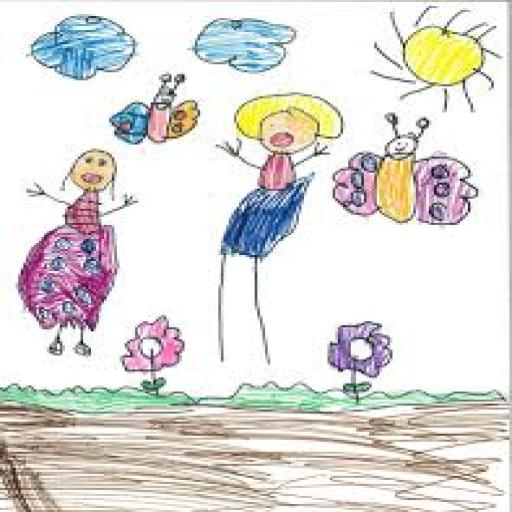person: (187, 84, 360, 210), (8, 148, 145, 275)
